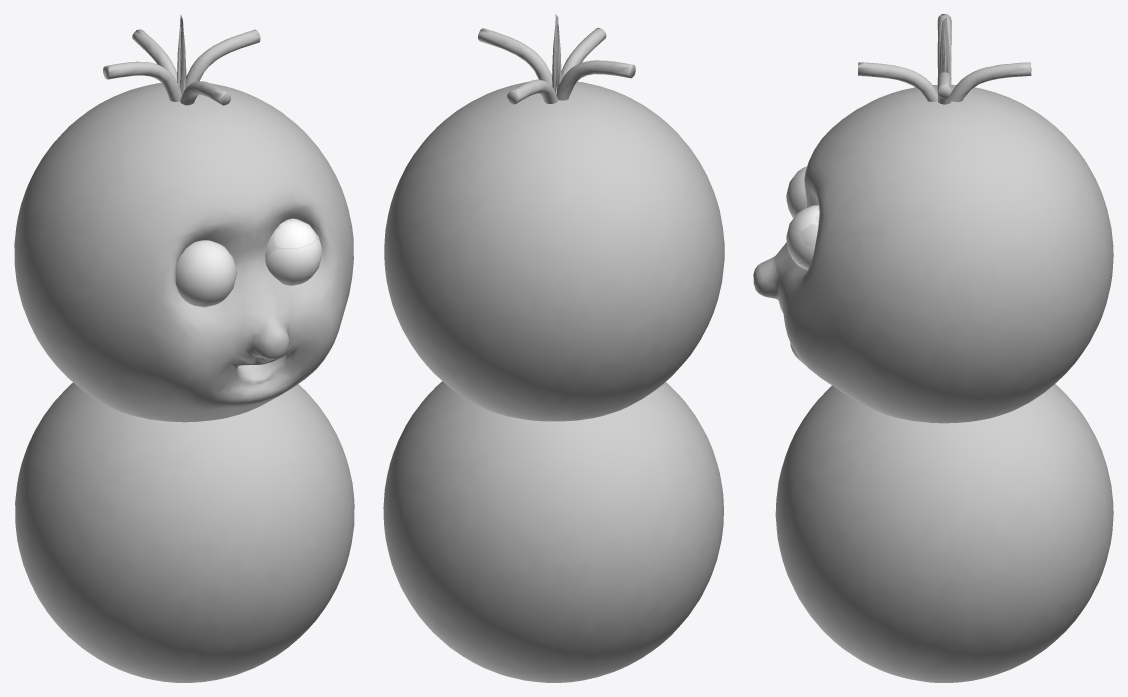
File: Oxygen child.fbx
3 renders of one model, left to right at view 1: azimuth 30°, elevation 25°; view 2: azimuth 150°, elevation 25°; view 3: azimuth 270°, elevation 25°, orthographic.
Visible parts, largest first — view 1: Oxygen; view 2: Oxygen; view 3: Oxygen.
Part boxes in pixels (bbox=[...]): Oxygen: bbox=[14, 14, 354, 682]; Oxygen: bbox=[383, 14, 724, 682]; Oxygen: bbox=[753, 14, 1113, 682].
Size of the model in its own units: 97.95 by 208 by 104.
